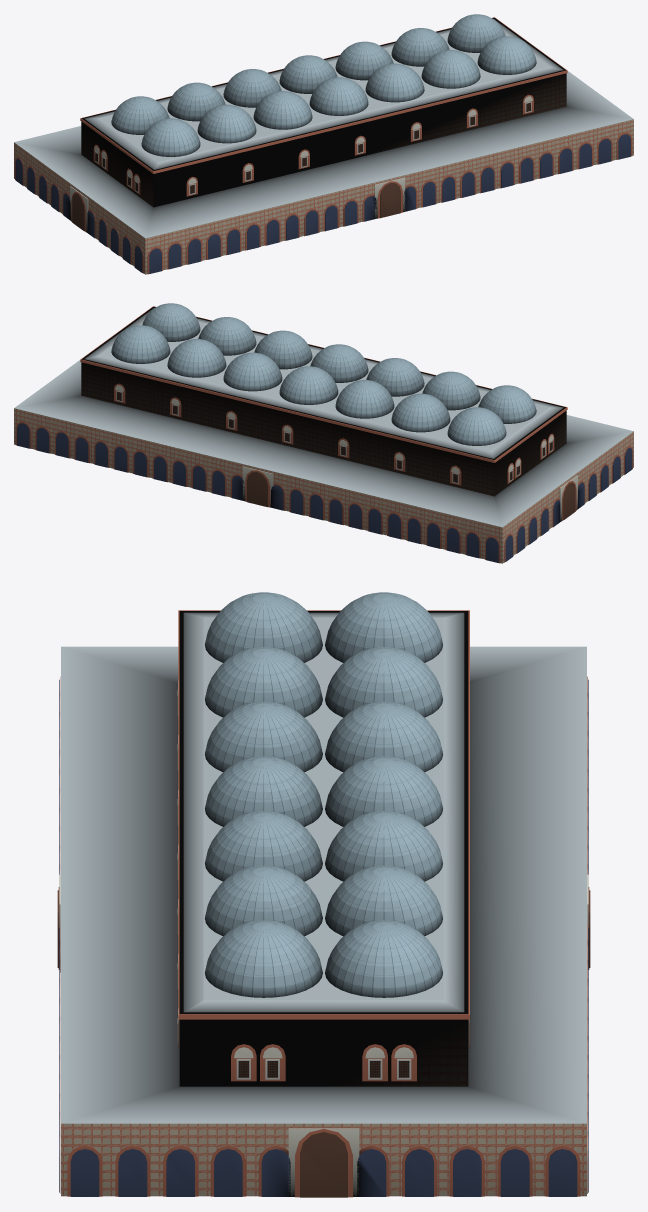
File: bedesten_v02c.glb
3 renders of one model, top to bottom at view 1: azimuth 30°, elevation 25°; view 2: azimuth 150°, elevation 25°; view 3: azimuth 270°, elevation 25°, orthographic. The views are drawn at different scales.
Visible parts, largest first — view 1: Dukkanlar, Kubbeler, Govde, Dukkan_Kapilari, Cati, Pencereler, Sacak, Kapilar; view 2: Dukkanlar, Kubbeler, Govde, Dukkan_Kapilari, Cati, Pencereler, Sacak, Kapilar; view 3: Dukkanlar, Kubbeler, Cati, Govde, Dukkan_Kapilari, Kapilar, Pencereler, Sacak.
Part boxes in pixels (bbox=[...]): Dukkanlar: bbox=[14, 71, 633, 274]; Kubbeler: bbox=[111, 14, 536, 156]; Govde: bbox=[81, 17, 566, 207]; Dukkan_Kapilari: bbox=[15, 132, 632, 274]; Cati: bbox=[84, 19, 563, 169]; Pencereler: bbox=[93, 94, 533, 196]; Sacak: bbox=[80, 17, 567, 173]; Kapilar: bbox=[70, 177, 405, 232]; Dukkanlar: bbox=[14, 360, 633, 563]; Kubbeler: bbox=[111, 303, 536, 445]; Govde: bbox=[81, 306, 566, 496]; Dukkan_Kapilari: bbox=[15, 421, 632, 563]; Cati: bbox=[84, 308, 563, 458]; Pencereler: bbox=[114, 383, 554, 485]; Sacak: bbox=[80, 306, 567, 462]; Kapilar: bbox=[242, 466, 577, 521]; Dukkanlar: bbox=[61, 646, 586, 1196]; Kubbeler: bbox=[205, 592, 442, 997]; Cati: bbox=[183, 612, 464, 1012]; Govde: bbox=[179, 611, 468, 1086]; Dukkan_Kapilari: bbox=[59, 676, 588, 1196]; Kapilar: bbox=[57, 874, 590, 1197]; Pencereler: bbox=[177, 680, 469, 1081]; Sacak: bbox=[178, 610, 469, 1019].
Bounding box in the file's own units: 70.84 × 13.5 × 33.24.
Materials: 8 (3 with a texture image).
